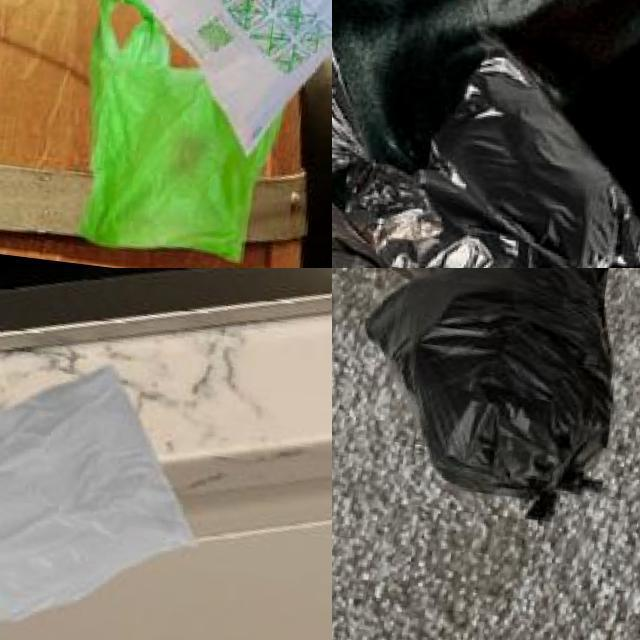waste: (344, 268, 640, 516), (365, 42, 640, 268), (0, 346, 201, 640), (76, 0, 285, 268), (91, 0, 332, 155)
